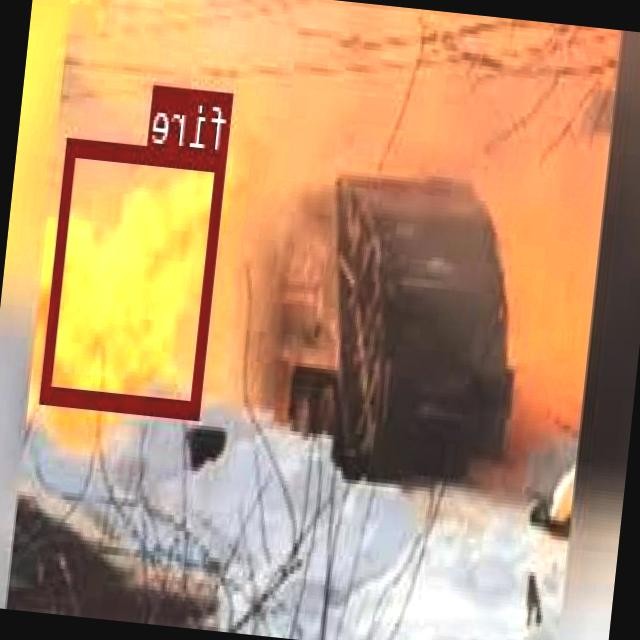fire: (42, 137, 228, 416)
